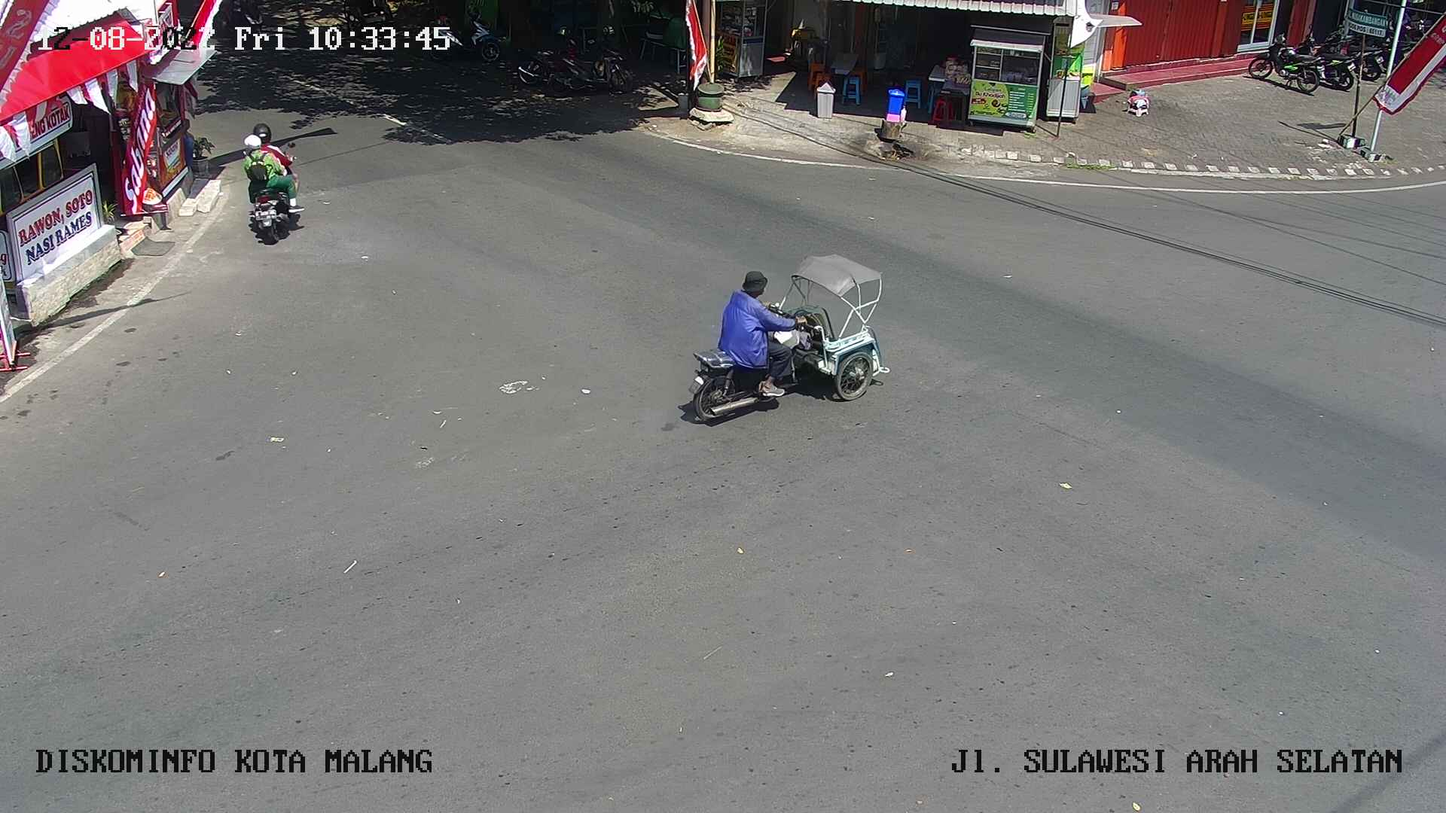with_helmet: (233, 118, 316, 251)
without_helmet: (677, 249, 902, 437)
